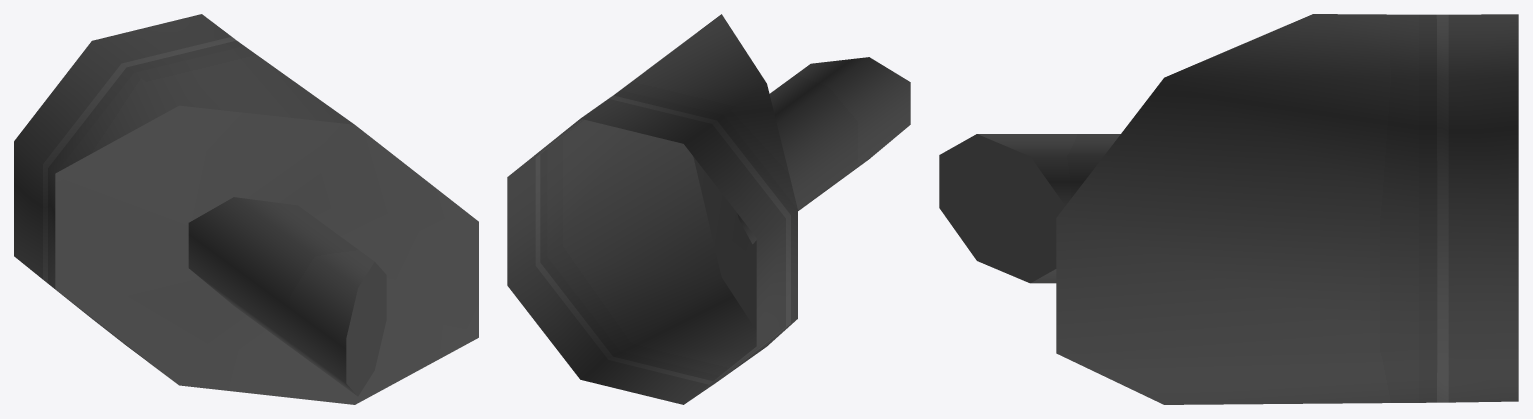
The model's file is stat_top5.glb.
3 renders of one model, left to right at view 1: azimuth 30°, elevation 25°; view 2: azimuth 150°, elevation 25°; view 3: azimuth 270°, elevation 25°, orthographic. The views are drawn at different scales.
Visible parts, largest first — view 1: group_19; view 2: group_19; view 3: group_19.
Boxes of the visible parts, x1=… form: group_19: x1=14, y1=14, x2=478, y2=404; group_19: x1=507, y1=14, x2=910, y2=404; group_19: x1=939, y1=14, x2=1518, y2=404.
Bounding box in the file's own units: 7641 × 7630 × 12244.
2 materials, 2 textured.
